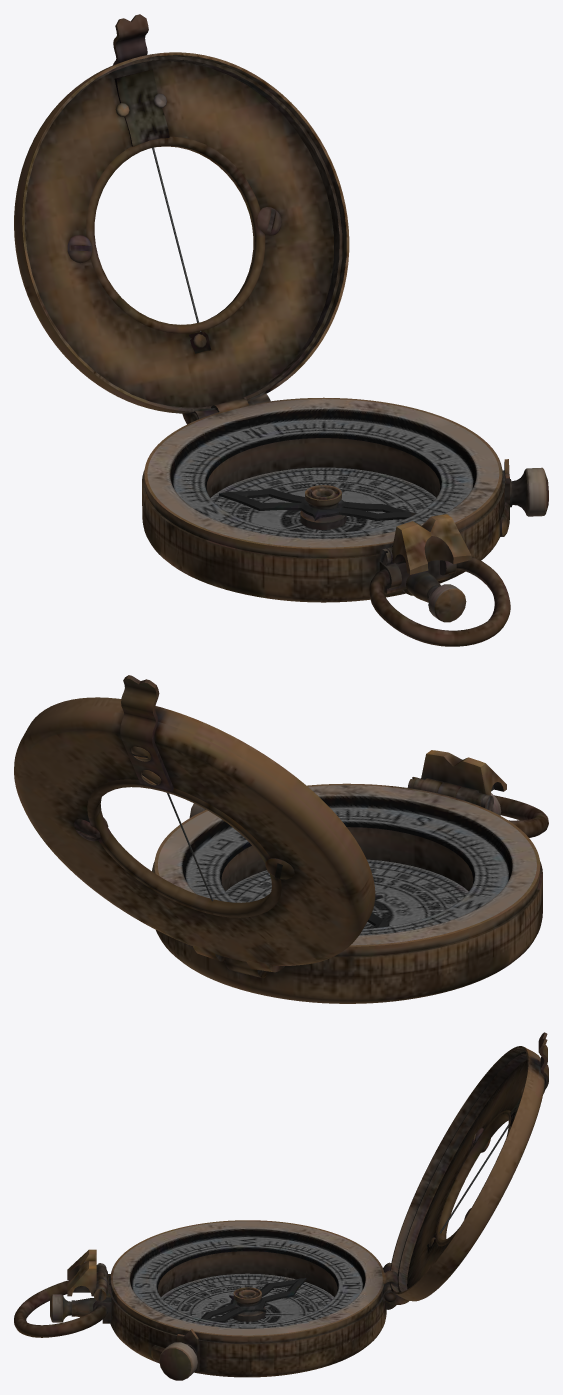
The picture shows the model from 3 angles, top to bottom: view 1: azimuth 30°, elevation 25°; view 2: azimuth 150°, elevation 25°; view 3: azimuth 270°, elevation 25°; orthographic projection. The views are drawn at different scales.
Visible parts, largest first — view 1: seadogs_compass_lid, seadogs_compass, seadogs_compass_needle; view 2: seadogs_compass_lid, seadogs_compass; view 3: seadogs_compass, seadogs_compass_lid, seadogs_compass_needle.
Boxes of the visible parts, <box> form: seadogs_compass_lid: <box>14,14,349,424</box>; seadogs_compass: <box>142,397,548,646</box>; seadogs_compass_needle: <box>219,488,415,520</box>; seadogs_compass_lid: <box>14,675,375,972</box>; seadogs_compass: <box>152,750,548,1003</box>; seadogs_compass: <box>14,1220,397,1380</box>; seadogs_compass_lid: <box>382,1032,548,1305</box>; seadogs_compass_needle: <box>201,1278,306,1322</box>.
Bounding box in the file's own units: 0.0813 × 0.0866 × 0.1441.
Materials: 1 (1 with a texture image).
